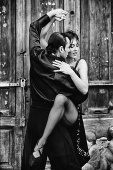female: (68, 29, 84, 63)
